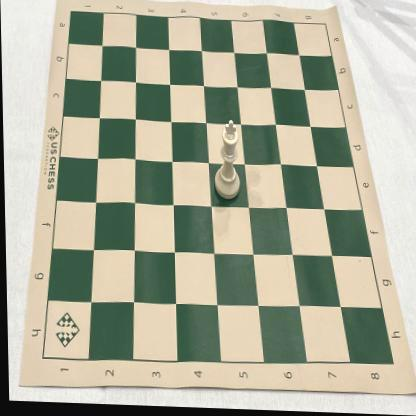white-king: (213, 121, 240, 202)
